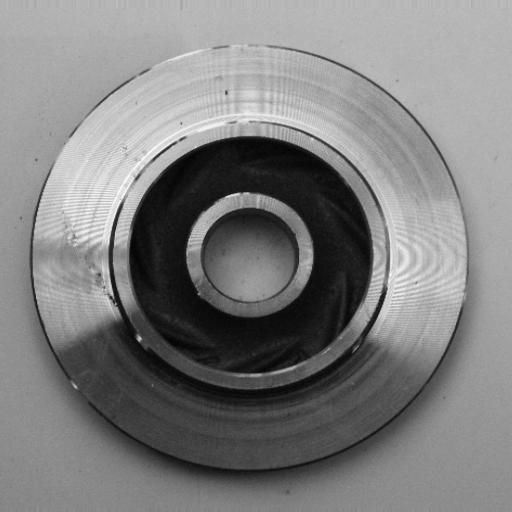crack: (64, 213, 126, 318)
scratch: (158, 108, 276, 142)
unpolished_casting: (33, 41, 474, 478)
